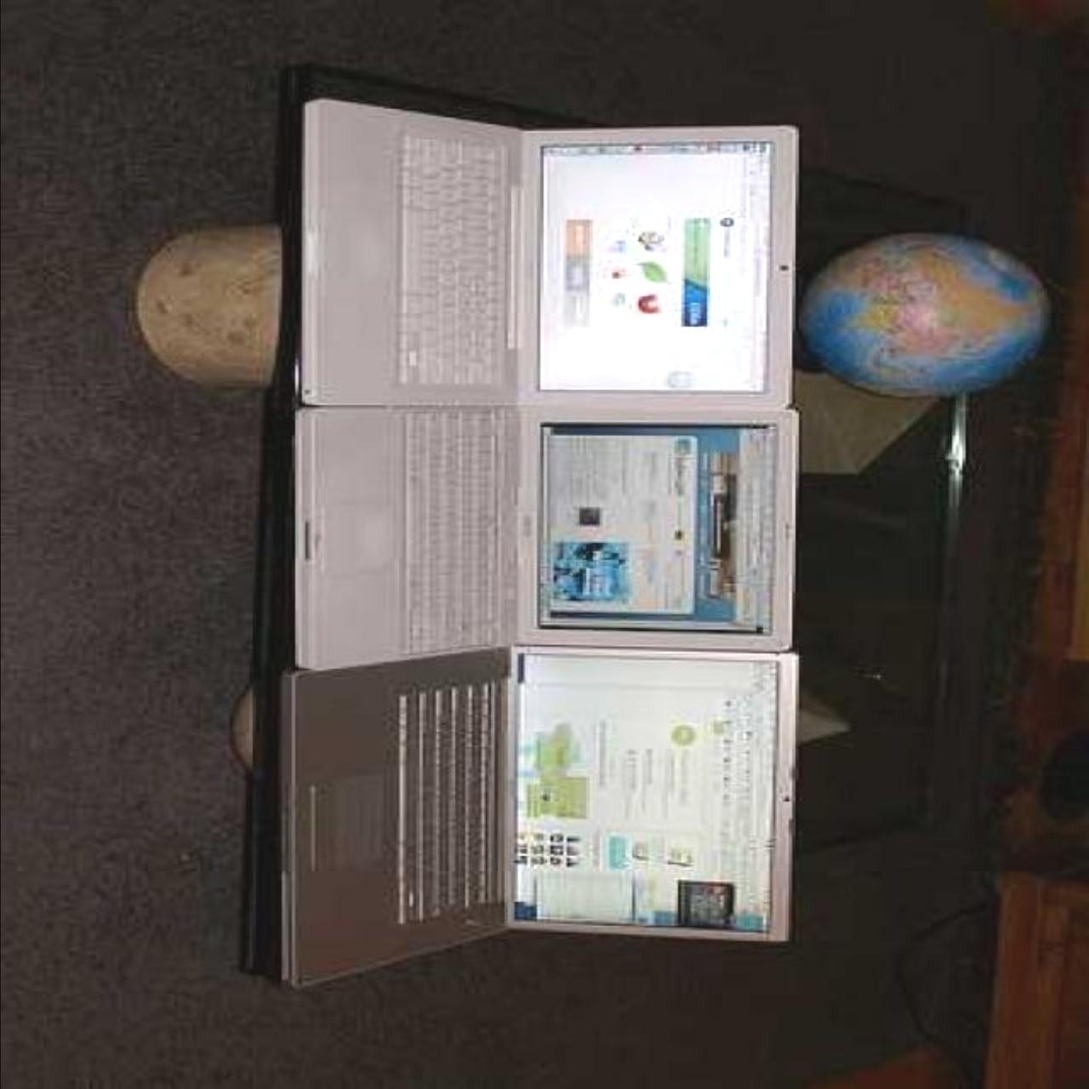laptop: (294, 113, 791, 404), (285, 416, 797, 653)
